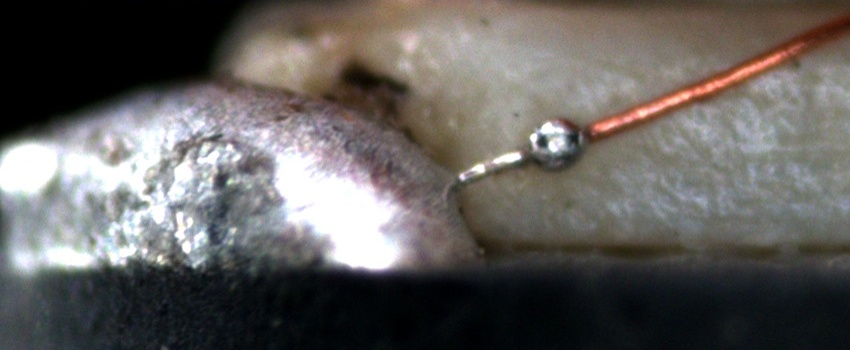DL: (624, 144, 850, 187), (636, 61, 850, 101)
TB: (523, 113, 599, 175)
TS: (454, 125, 591, 186)
TTCW: (457, 100, 657, 191)
